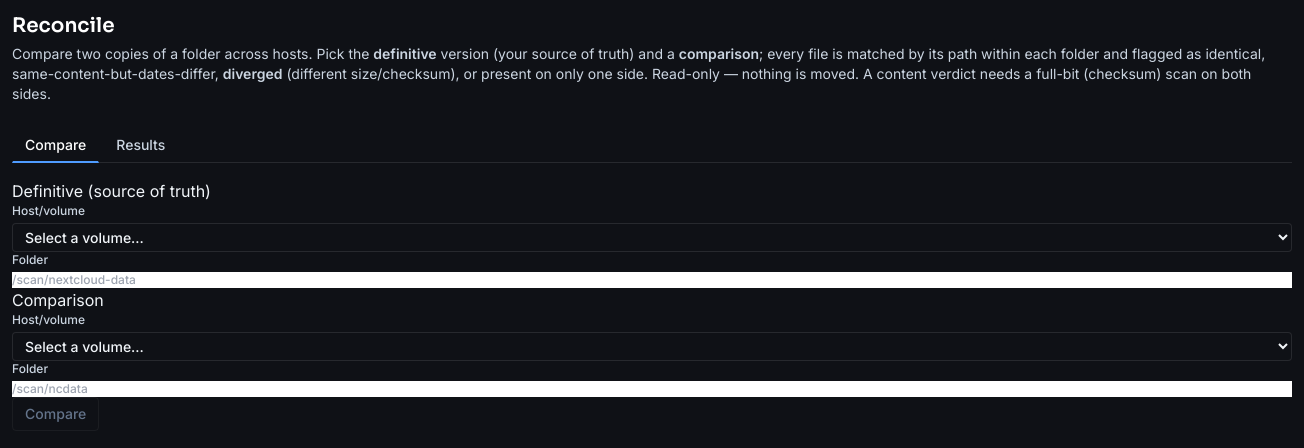
Test case: Reconcile page › splits the form and results into Compare / Results tabs, Compare first
The width and height of the screenshot is (1304, 448).
Check: the tab "Compare" is shown, box [12,128,99,163]
Check: the text "Definitive (source of truth)" is shown, box [12,179,211,203]
# Results tab shows the empty-state prompt until a comparison runs.
Click the tab "Results".
click(141, 146)  # box [103,128,178,163]
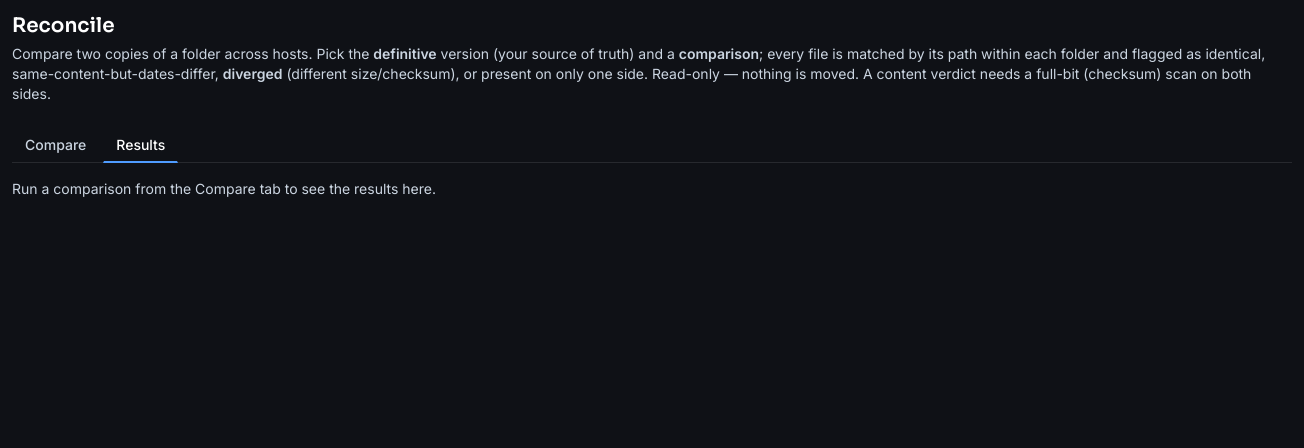
Check: the text "Run a comparison from the Compare tab" is shown, box [12,180,436,197]
